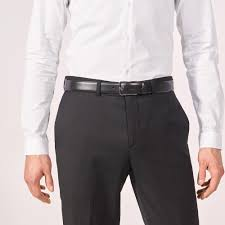F_belt: (59, 76, 181, 98)
F_dress pants: (51, 102, 198, 222)
F_shirt: (17, 1, 221, 159)
